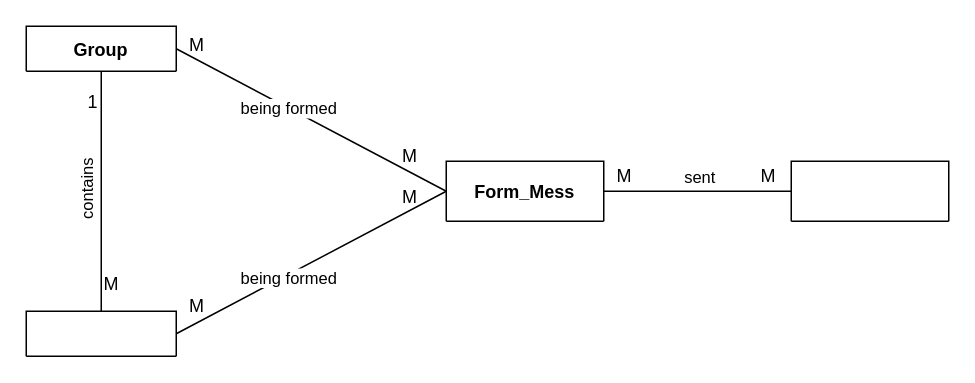
The diagram is 975 pixels wide and 383 high, and some of its shapes have lost their labels. Each missing label, with the box of its shape:
Message: (25, 310, 176, 356)
User: (790, 160, 949, 221)
